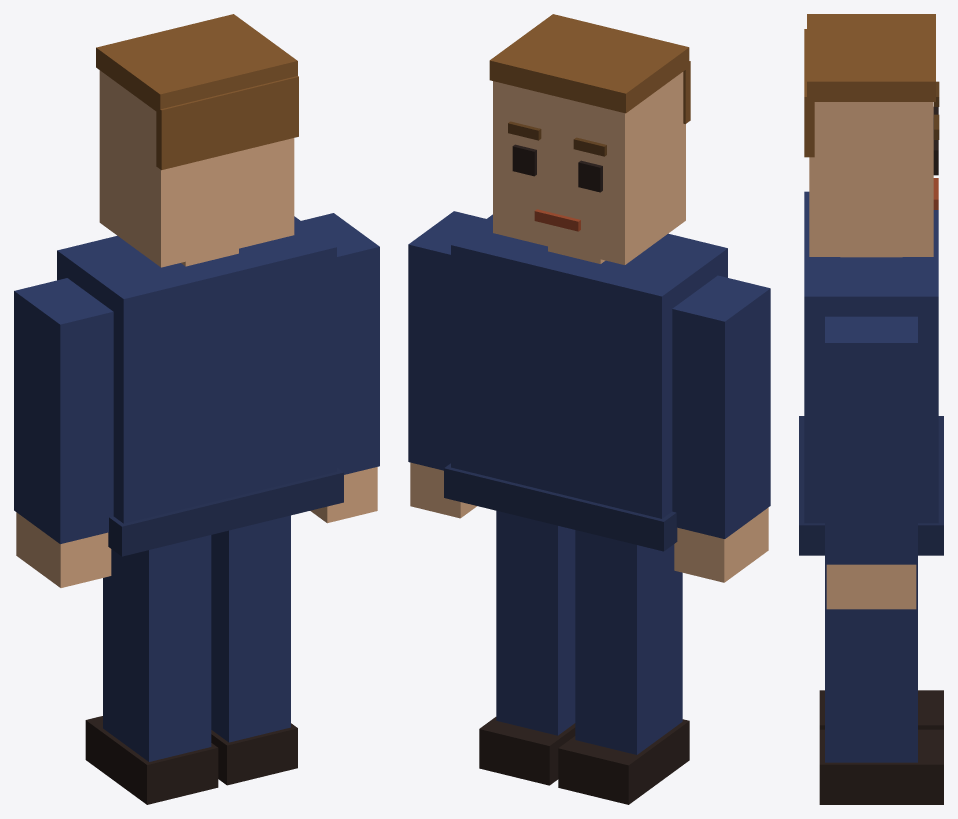
The model's file is police_desk.glb.
The picture shows the model from 3 angles, left to right: view 1: azimuth 30°, elevation 25°; view 2: azimuth 150°, elevation 25°; view 3: azimuth 270°, elevation 25°; orthographic projection.
Visible parts, largest first — view 1: Box9, Box3, Box12, Box1, Box5, Box18, Box7, Box19, Box10, Box2, Box4, Box6 (+1 smaller); view 2: Box9, Box12, Box3, Box1, Box5, Box18, Box7, Box10, Box2, Box6, Box4, Box8 (+2 smaller); view 3: Box7, Box12, Box9, Box5, Box18, Box6, Box8, Box10, Box2, Box19.
Boxes of the visible parts, x1,y1,x2,y2 form: Box9: (57, 216, 336, 523); Box3: (14, 278, 113, 544); Box12: (99, 70, 294, 267); Box1: (103, 535, 211, 761); Box5: (211, 515, 290, 742); Box18: (96, 14, 297, 113); Box7: (301, 213, 379, 474); Box19: (156, 76, 298, 170); Box10: (108, 468, 343, 556); Box2: (85, 716, 218, 804); Box4: (16, 512, 111, 587); Box6: (211, 723, 297, 785); Box9: (451, 214, 727, 518); Box12: (493, 72, 685, 264); Box3: (672, 275, 770, 538); Box1: (575, 530, 682, 754); Box5: (496, 510, 575, 735); Box18: (489, 14, 689, 113); Box7: (408, 211, 485, 470); Box10: (444, 463, 677, 551); Box2: (558, 719, 689, 804); Box6: (479, 717, 575, 785); Box4: (674, 507, 768, 582); Box8: (410, 462, 476, 518); Box7: (825, 316, 917, 564); Box12: (809, 102, 933, 256); Box9: (804, 191, 938, 523); Box5: (825, 564, 917, 762); Box18: (807, 14, 935, 101); Box6: (819, 729, 943, 804); Box8: (826, 564, 916, 609); Box10: (799, 416, 943, 555); Box2: (819, 690, 943, 729); Box19: (804, 29, 814, 157).
Size of the model in its own units: 0.8165 by 1.74 by 0.3175.
